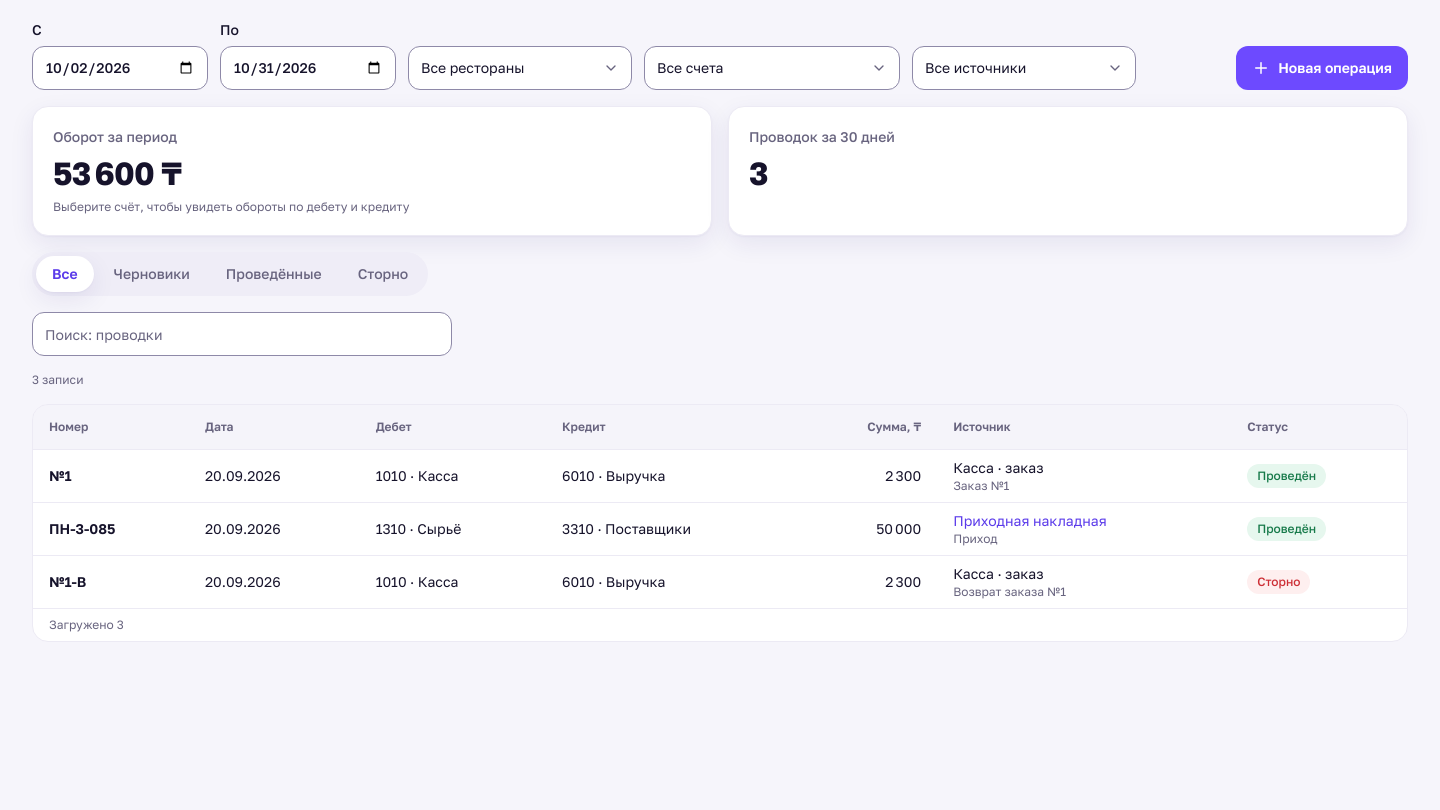
Test: «Проводки» journal (W1-FIN-05) › document tabs: «Сторно» shows reversal lines, «Черновики» the manual drafts
Click the tab "Сторно" at (383, 274), box [342,256,424,292]
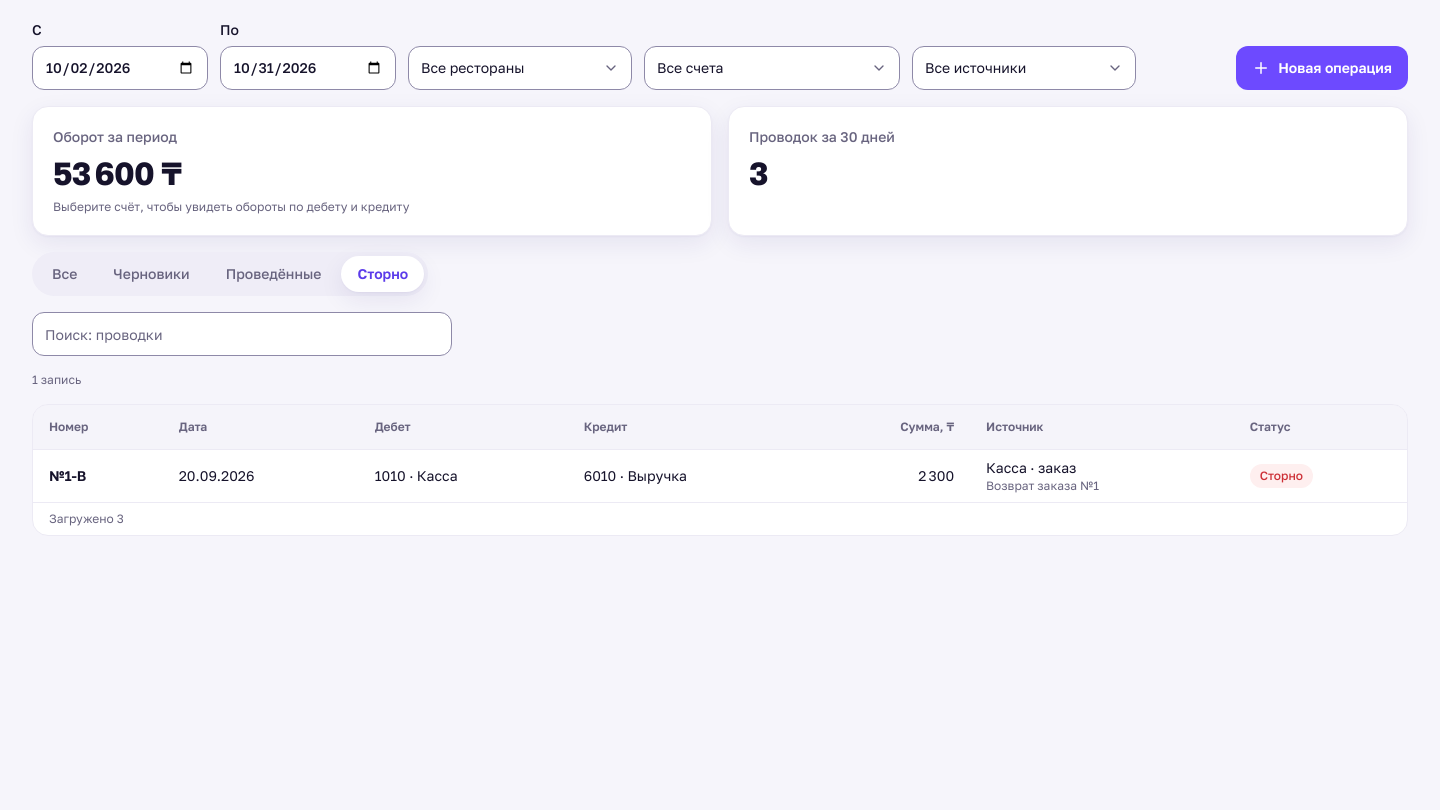
Expected: the number of rows is 2, [33,405,1407,449]; [33,450,1407,502]
Expected: the text "№1-В" is shown, [49,466,86,484]
Click the tab "Черновики" at (151, 274), box [97,256,206,292]
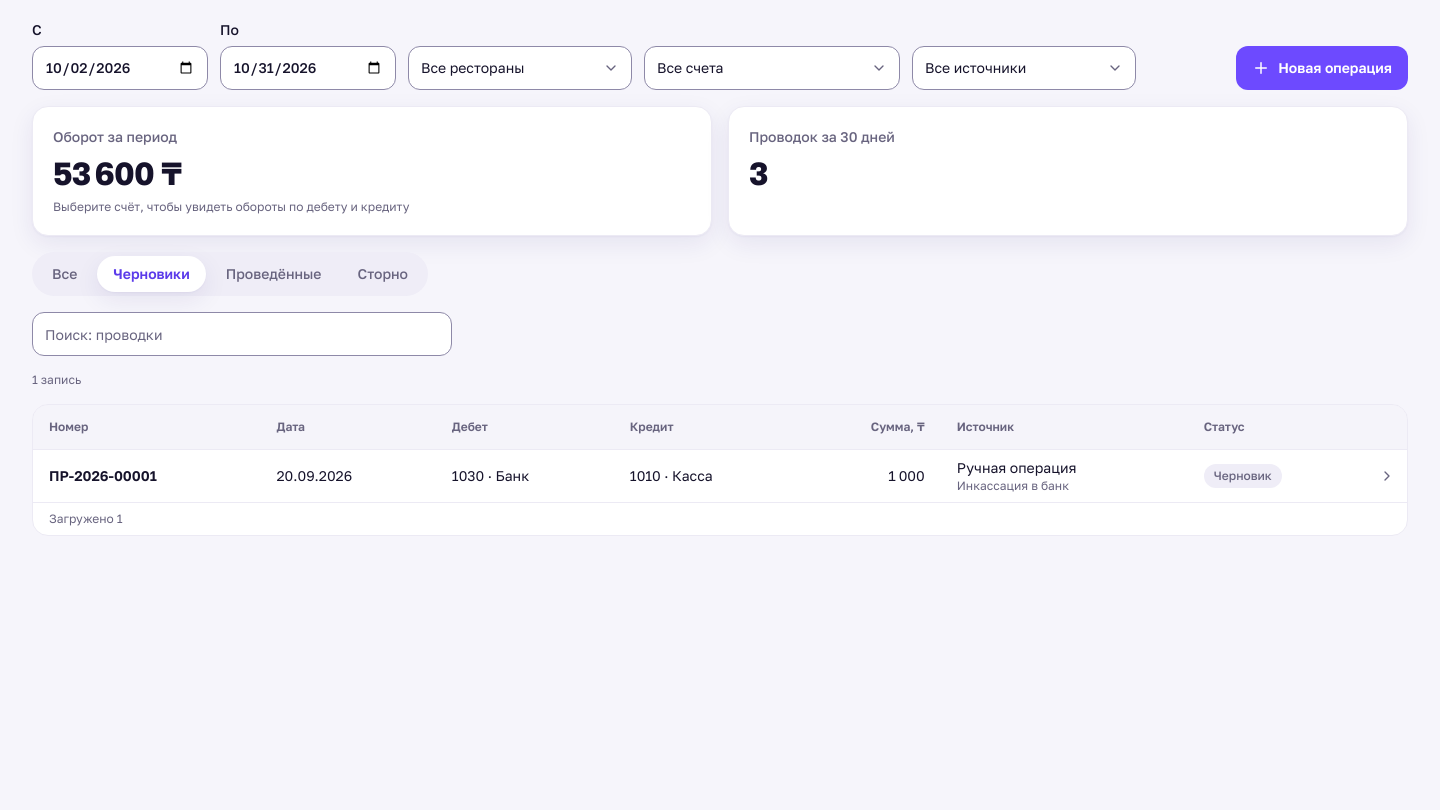
Now the text "ПР-2026-00001" is shown, box [49,466,157,484]
